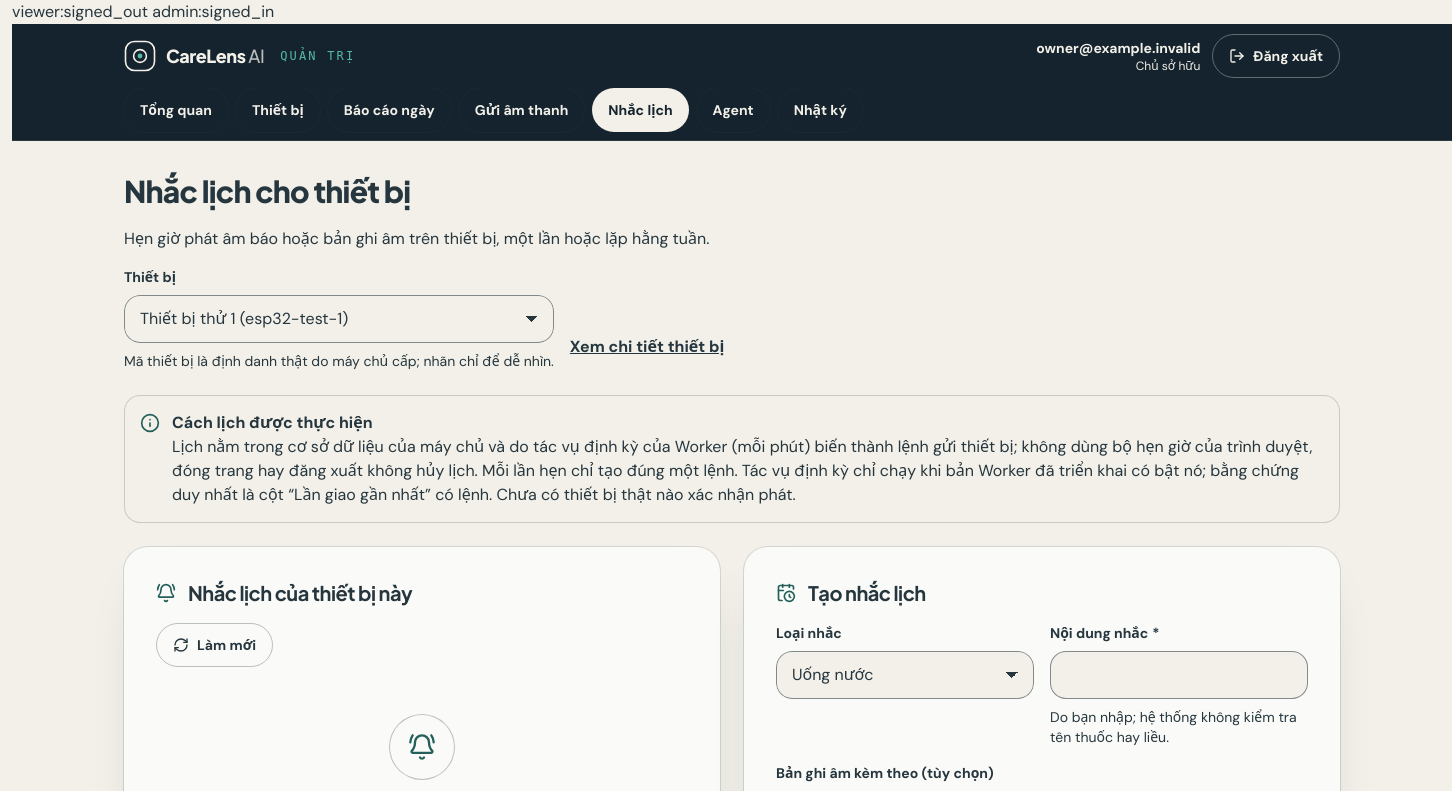
scheduled reminders › creates a one-time reminder only after the confirmation box, with the schedule in Vietnam time and a stable idempotency key
The width and height of the screenshot is (1452, 791).
Type "Uống một cốc nước" into the field labelled "Nội dung nhắc*".
click(1179, 674); type("Uống một cốc nước")  # box left=1050, top=650, right=1308, bottom=698
(page scrolled)
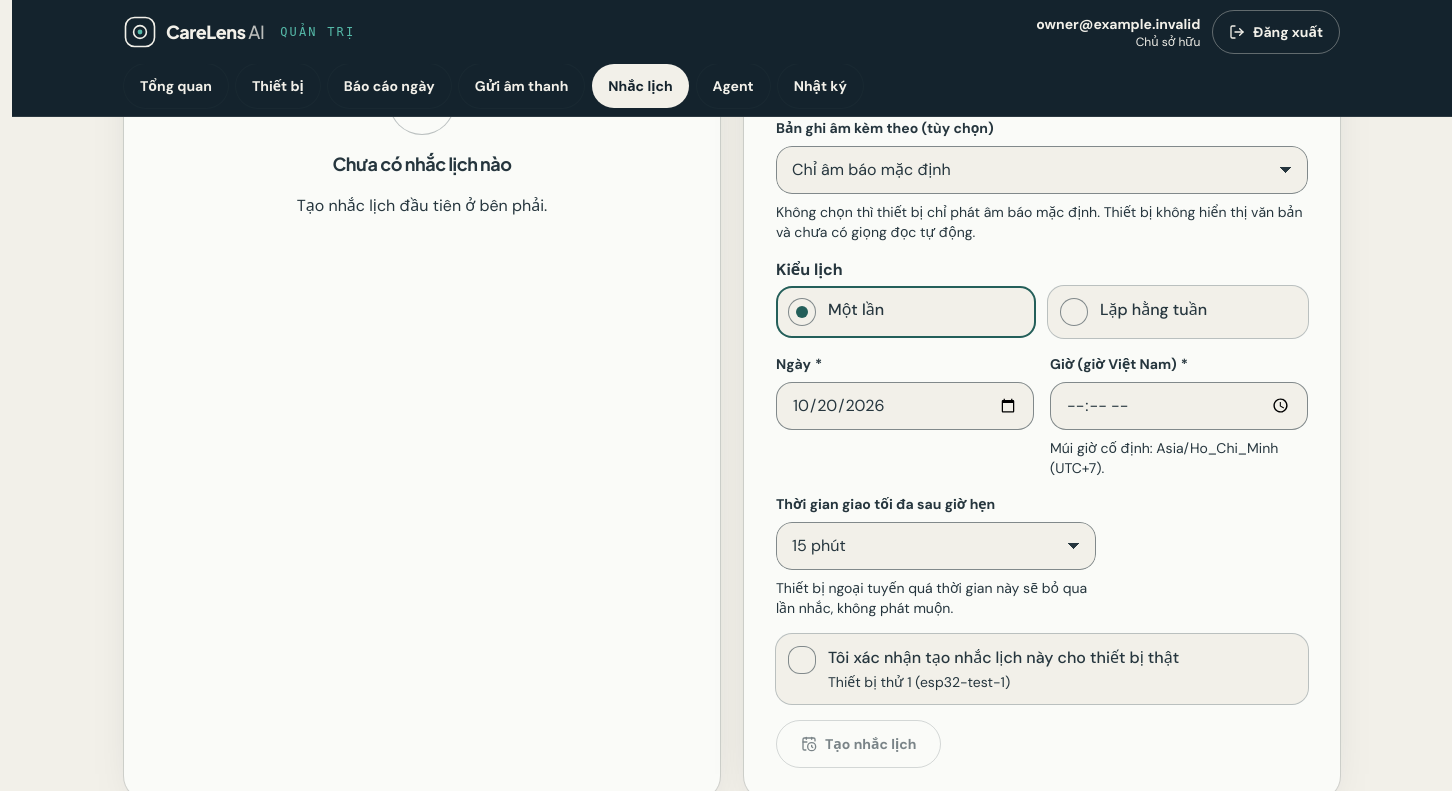
Type "10:05" into the time field labelled "Giờ (giờ Việt Nam)*".
click(1179, 406); type("10:05")  # box left=1050, top=382, right=1308, bottom=430
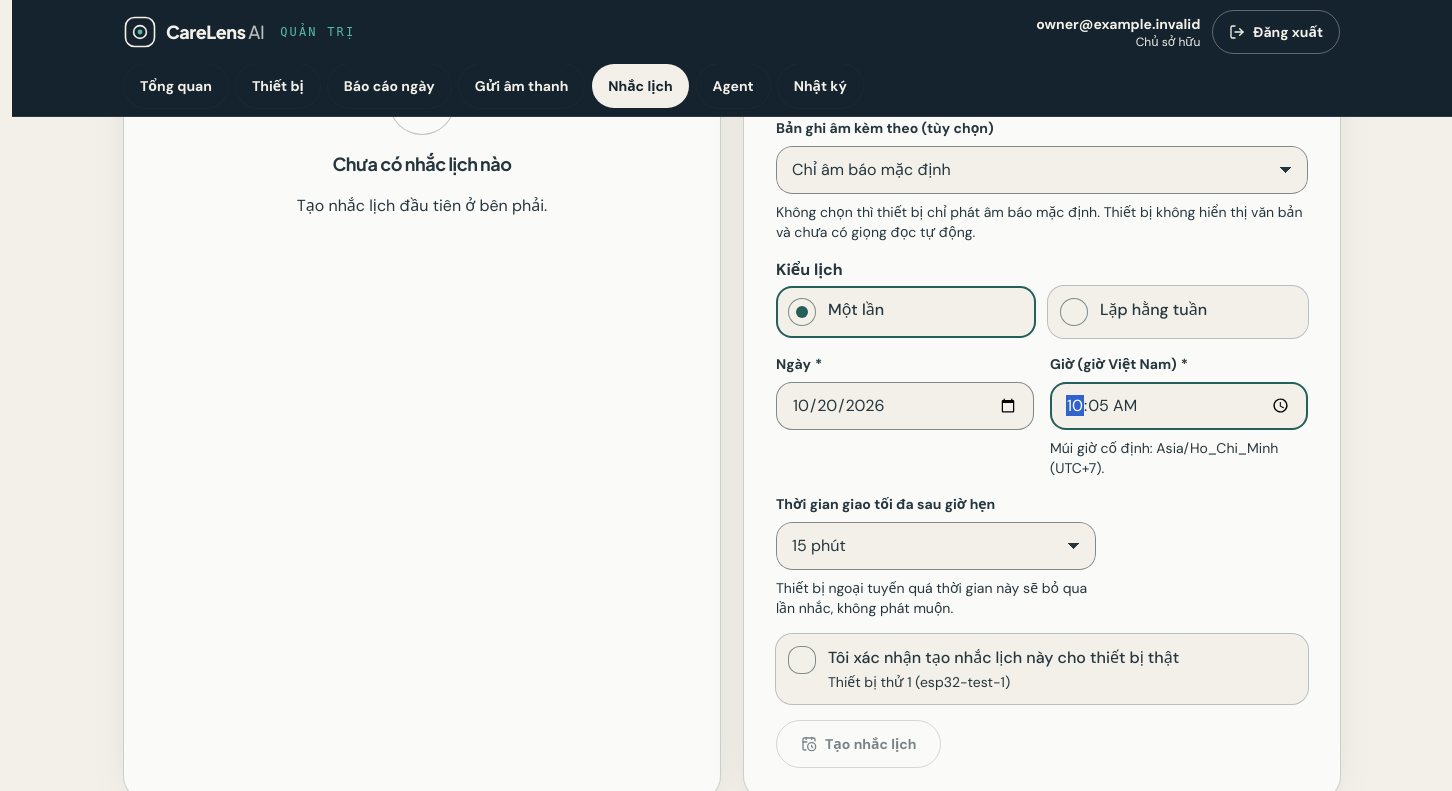
expect the button "Tạo nhắc lịch" is disabled: met, box left=776, top=720, right=941, bottom=768
Click the checkbox labelled "Tôi xác nhận tạo nhắc lịch này".
click(1042, 668)  # box left=776, top=634, right=1308, bottom=704
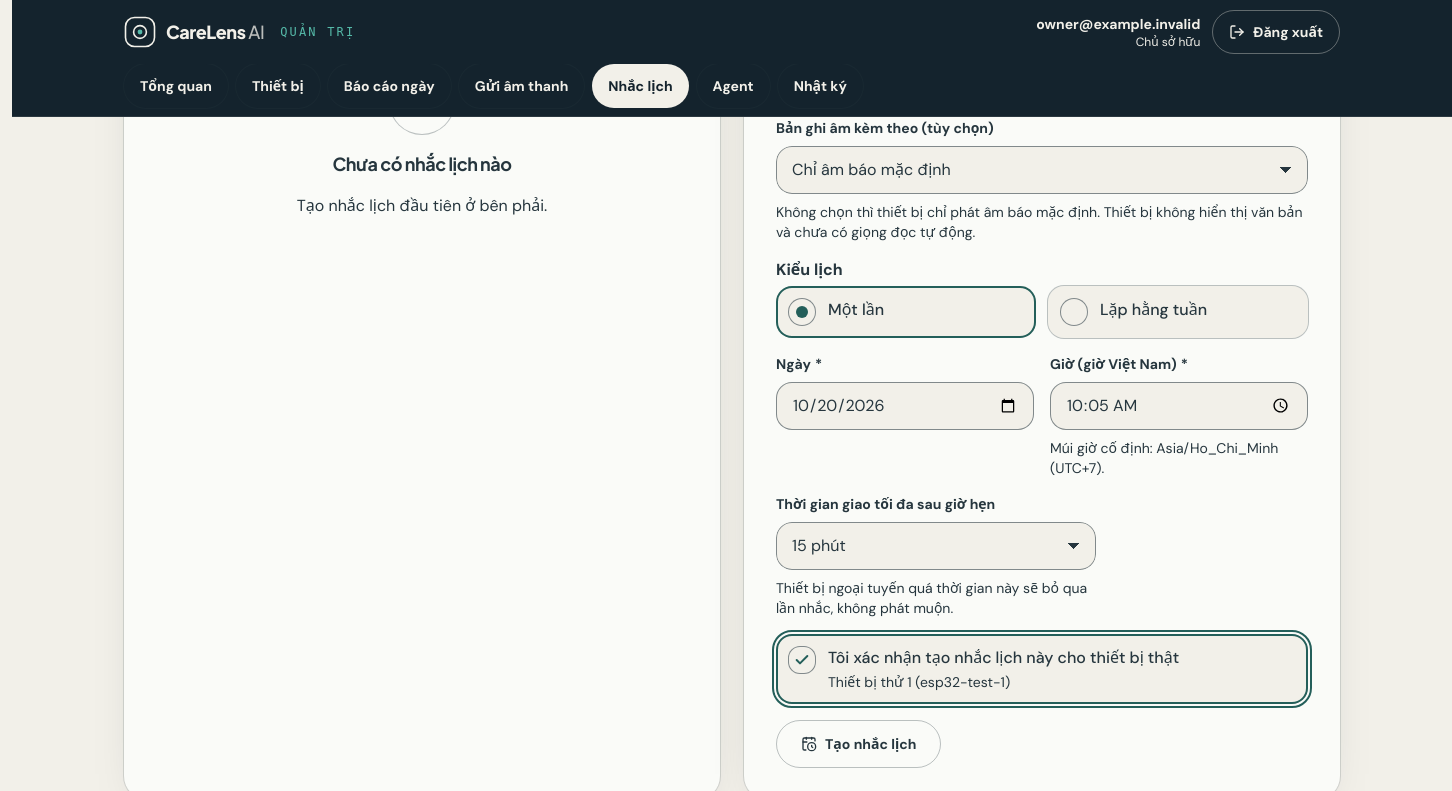
expect the button "Tạo nhắc lịch" is enabled: met
Click the button "Tạo nhắc lịch".
click(859, 744)  # box left=776, top=720, right=941, bottom=768
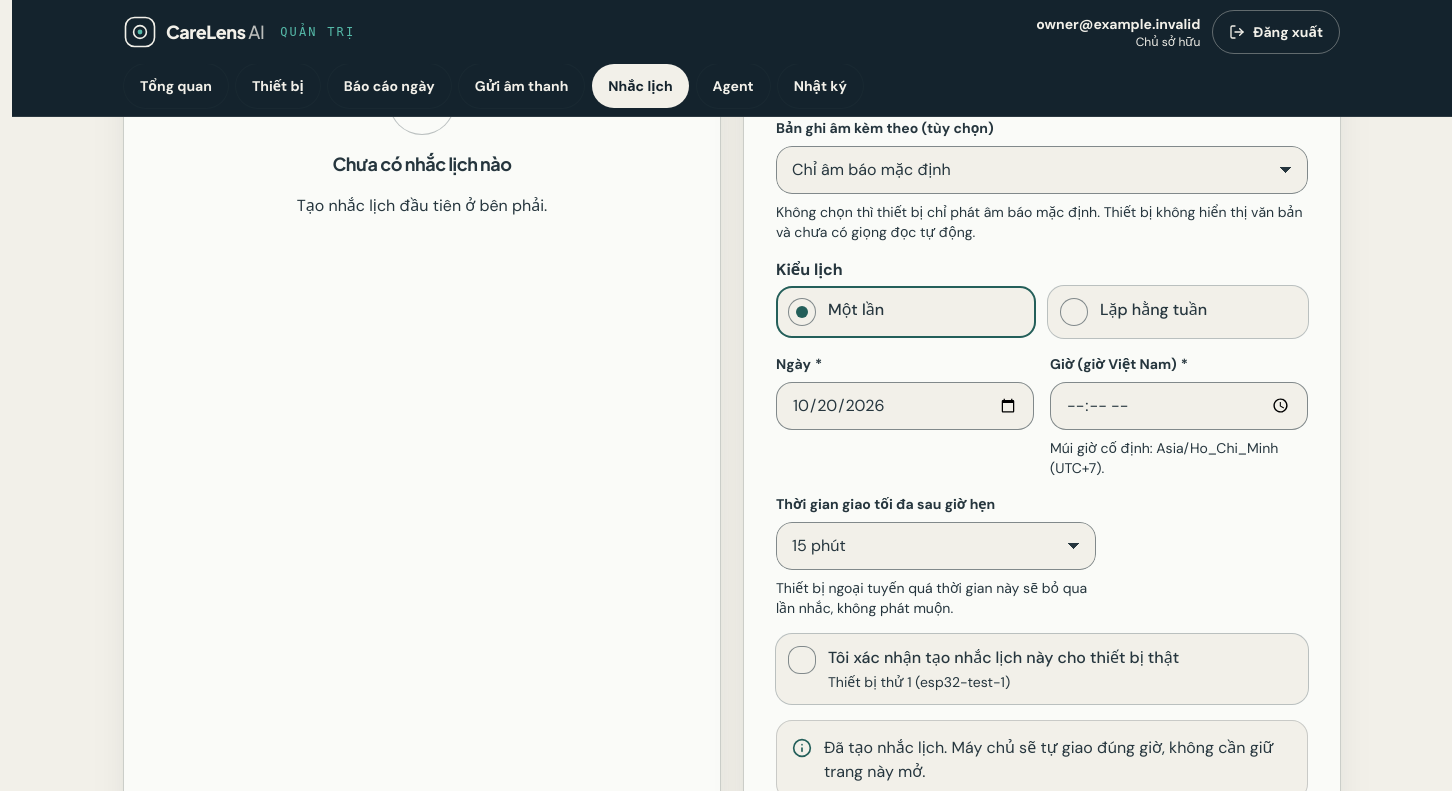
expect the text "Máy chủ sẽ tự giao đúng giờ, không cần giữ trang này mở" is shown: met, box left=824, top=736, right=1273, bottom=782
